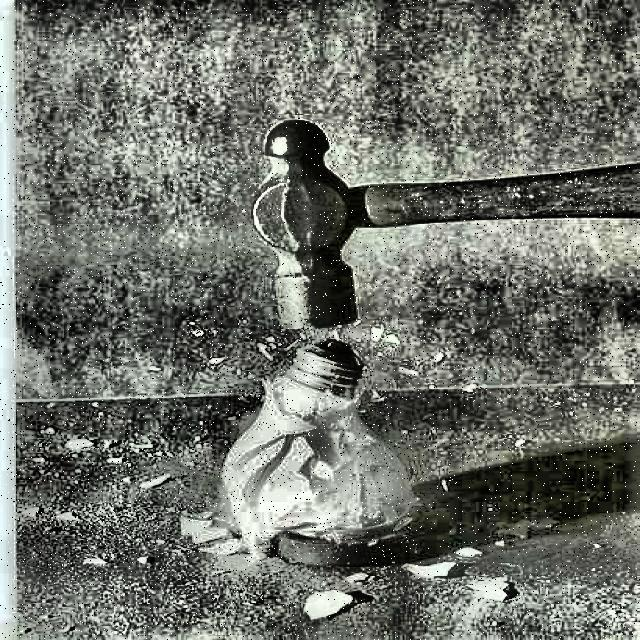hammer: (251, 117, 640, 333)
